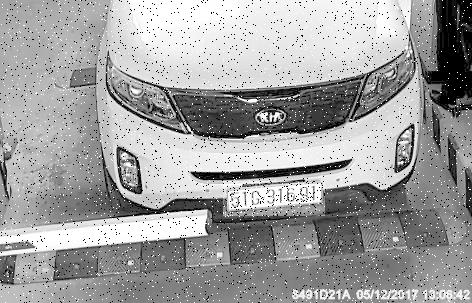License-plate: (224, 182, 326, 217)
